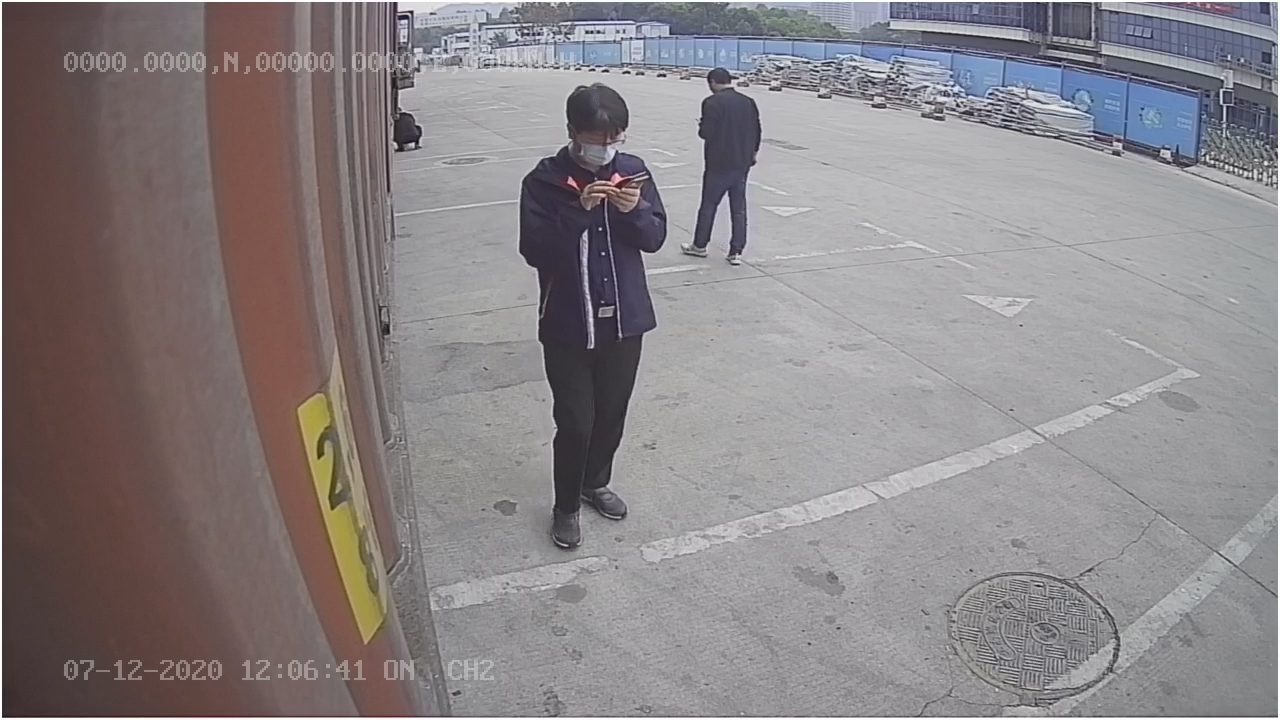person: (512, 76, 669, 546), (682, 62, 770, 267)
